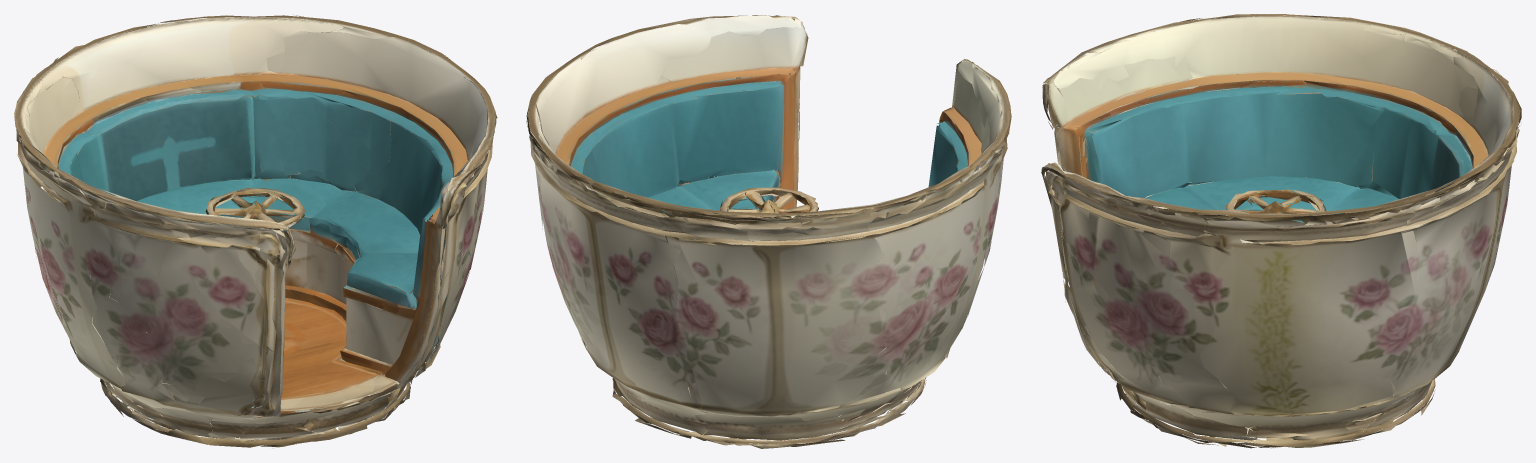
Rendered from unified--detail--teacup.glb.
3 views of the same model, side by side, from view 1: azimuth 30°, elevation 25°; view 2: azimuth 150°, elevation 25°; view 3: azimuth 270°, elevation 25° (orthographic).
Visible parts, largest first — view 1: teacup-0; view 2: teacup-0; view 3: teacup-0.
Part boxes in pixels (left/top/right/bottom): teacup-0: left=14, top=14, right=497, bottom=448; teacup-0: left=526, top=15, right=1011, bottom=448; teacup-0: left=1041, top=14, right=1521, bottom=448.
Size of the model in its own units: 2.81 by 1.75 by 2.8.
Materials: 1 (1 with a texture image).
